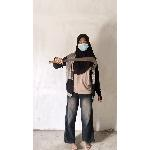Golok: (44, 54, 102, 68)
